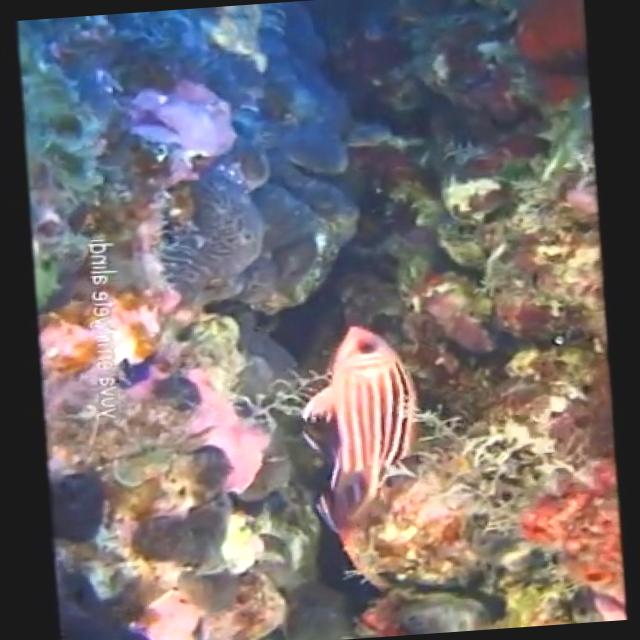Asker Baligi: (282, 320, 438, 541)
